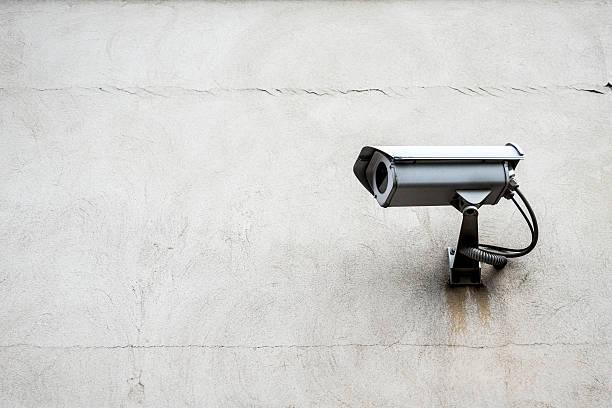camera: (294, 86, 559, 253)
